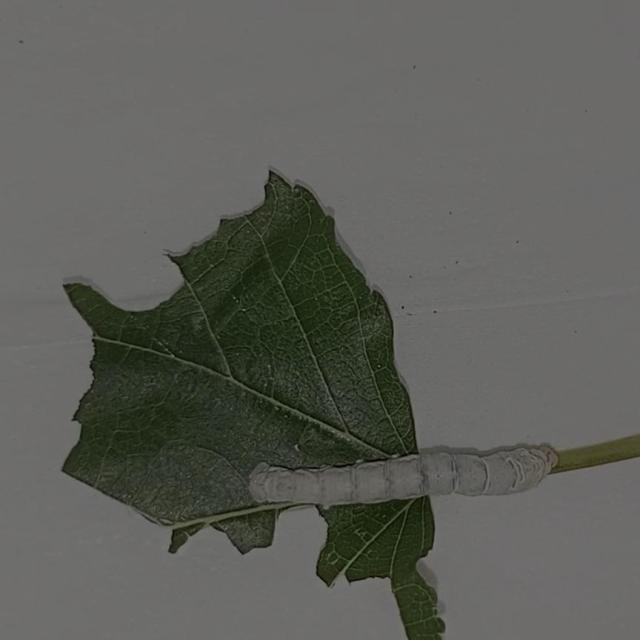Healthy: (240, 396, 572, 565)
